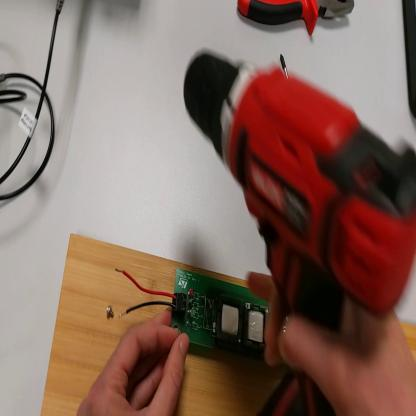electric screwdriver: (181, 48, 416, 414)
hand: (249, 262, 416, 413), (80, 308, 189, 412)
high voltage board: (117, 268, 277, 362)
pliers: (238, 1, 354, 40)
screwdriver-: (279, 54, 290, 79)
working area: (41, 231, 416, 416)
